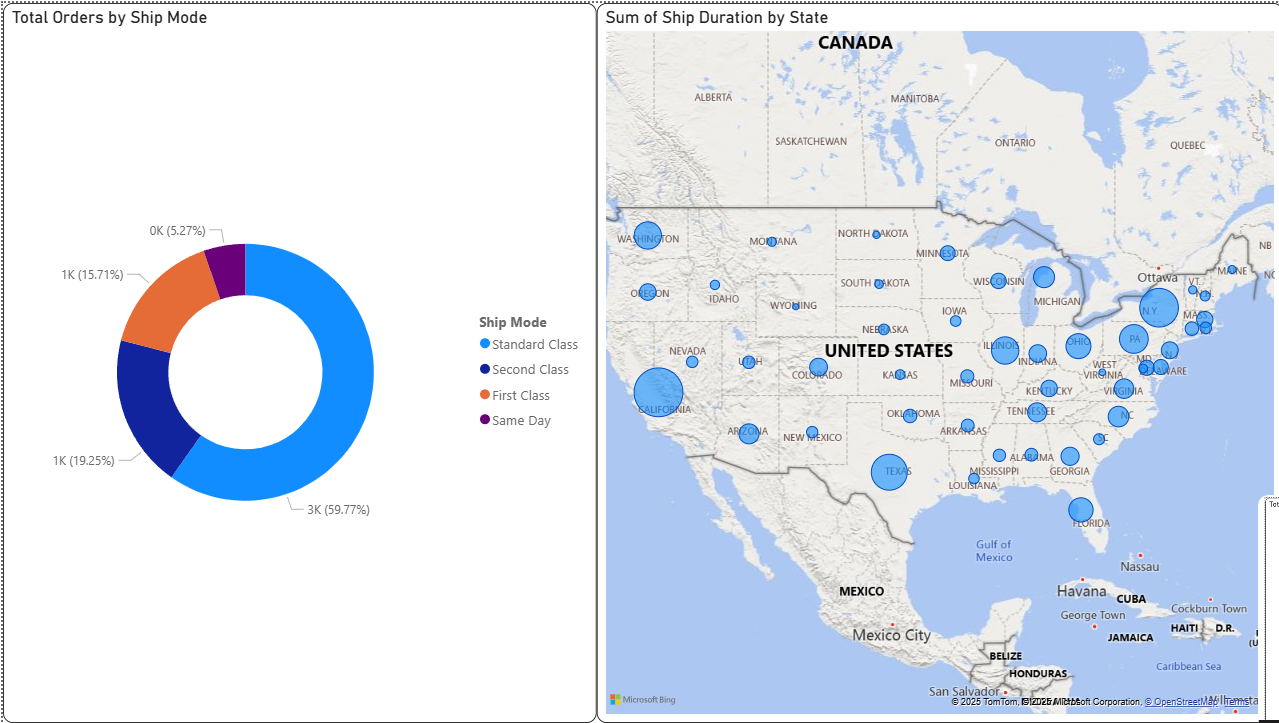

Layout of this report page (visuals, bound fields, positions):
{"tool":"powerbi","page":{"name":"P3 - Shipping & Operations","canvas":[1280,720],"ordinal":2},"visuals":[{"type":"map","fields":{"Category":["superstore_clean.State"],"Size":["Sum(superstore_clean.Ship Duration)"]},"box":[593.3,0,686.7,720],"z":0},{"type":"donutChart","fields":{"Category":["superstore_clean.Ship Mode"],"Y":["superstore_clean.Total Orders"]},"box":[0,0,593.3,720],"z":1000}]}

Visuals, with their boxes in screenshot pixels (x1, y1, x2, y2), scaled from the page's 1280x720 canvas onto the 1279x723 screenshot:
map - superstore_clean.State x Sum(superstore_clean.Ship Duration): (x1=593, y1=0, x2=1278, y2=722)
donutChart - superstore_clean.Ship Mode x superstore_clean.Total Orders: (x1=0, y1=0, x2=593, y2=722)
